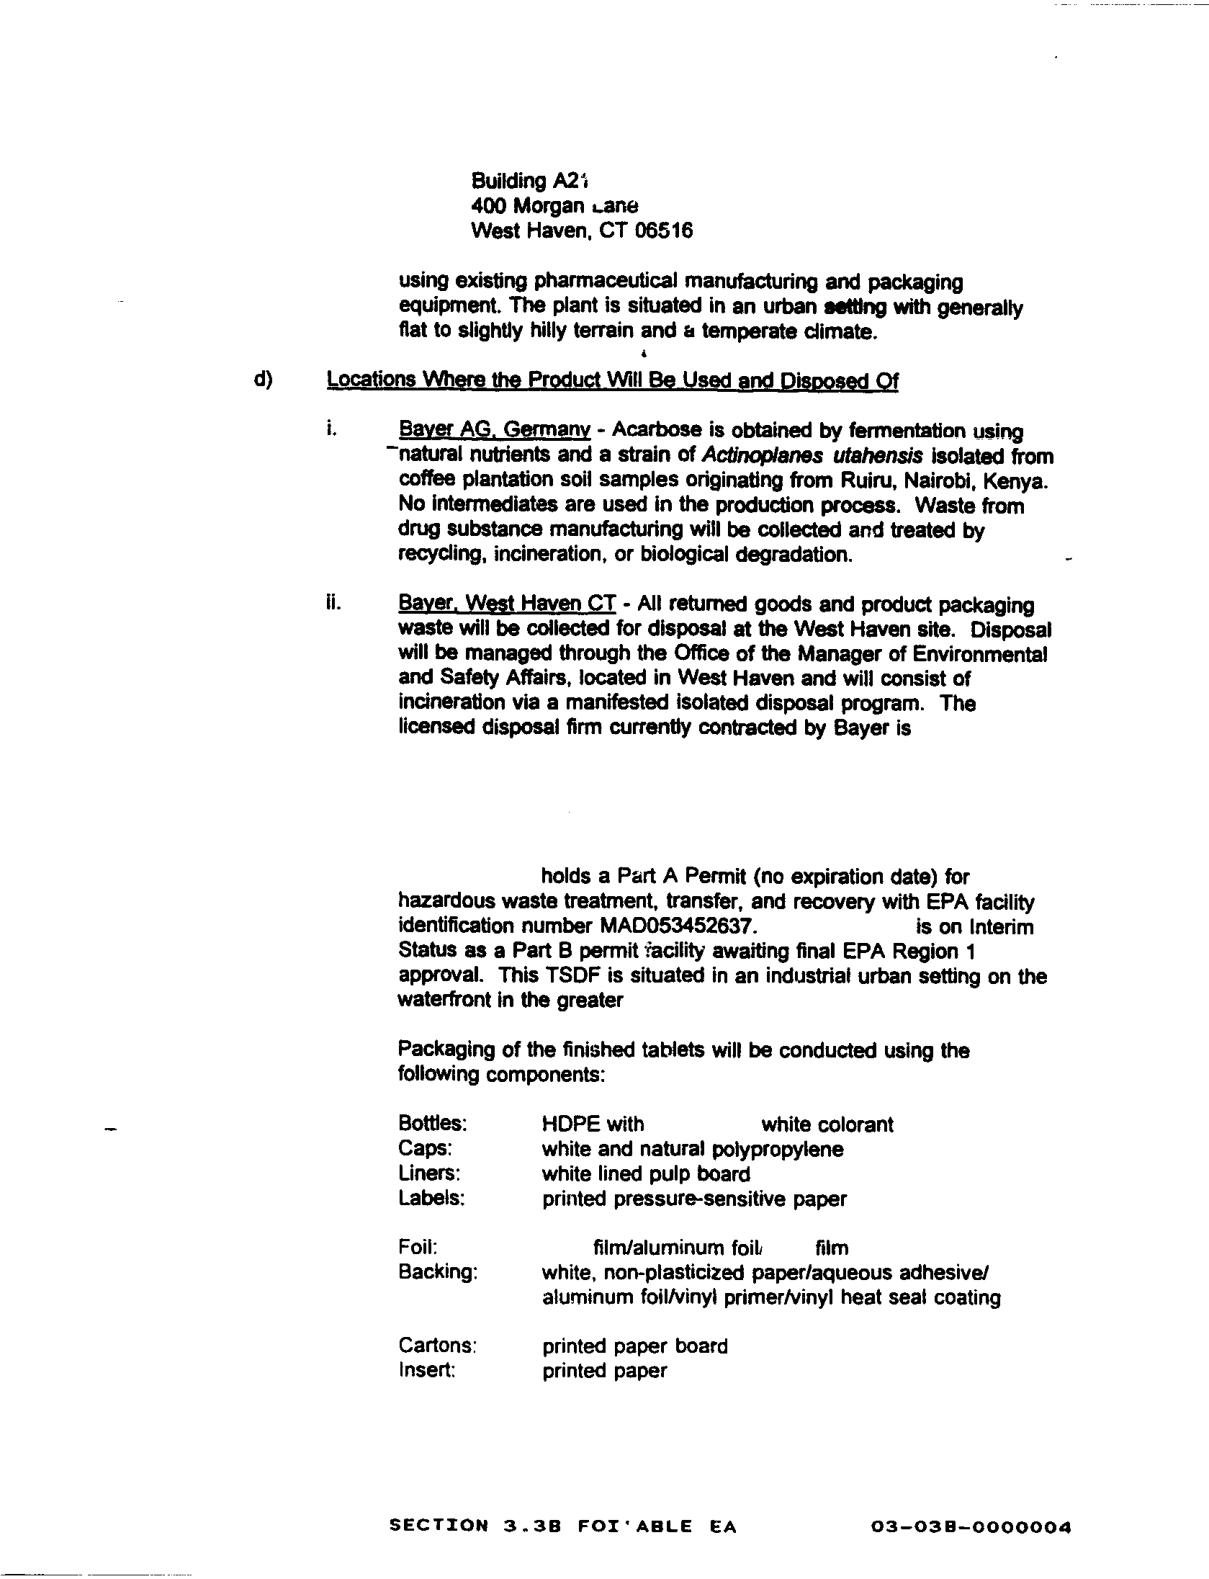nolines: (396, 1111, 1008, 1381)
